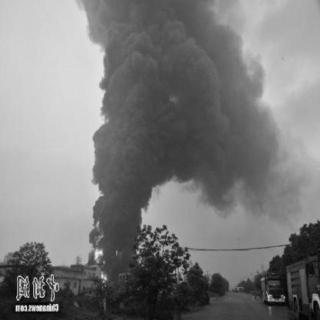Fire: (90, 216, 108, 284)
Smoke: (91, 4, 281, 216), (112, 216, 139, 288)
other: (17, 267, 61, 307)
